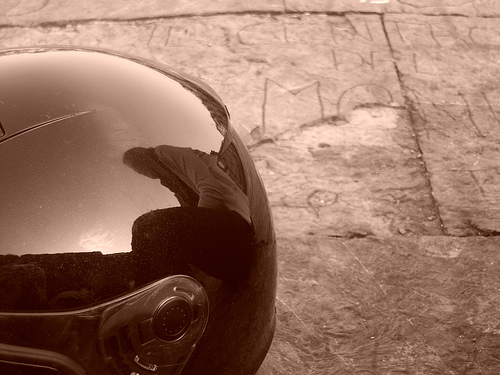helmet: (3, 42, 281, 360)
